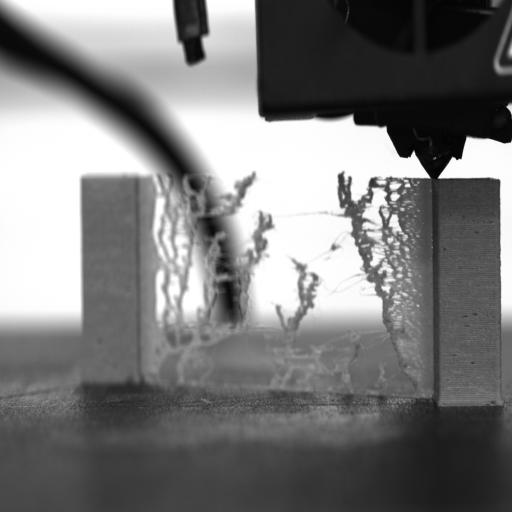spaghetti_and_stringing: (160, 173, 270, 389), (333, 169, 426, 399), (268, 248, 331, 392)
